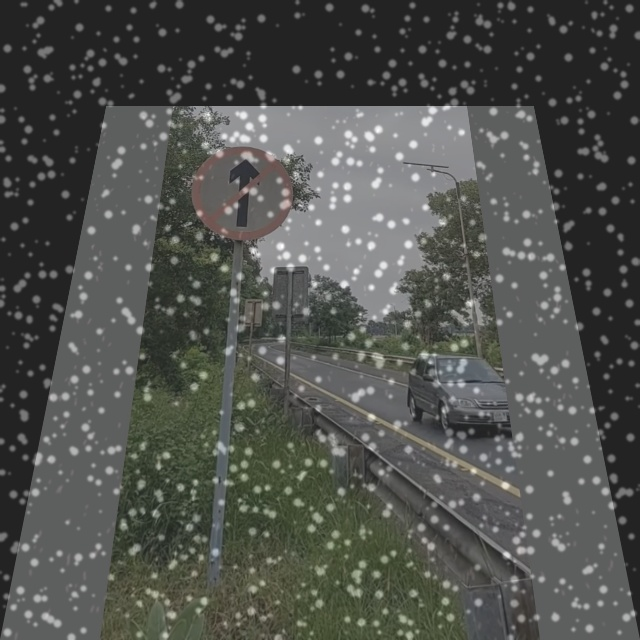No_Entry: (188, 148, 294, 239)
